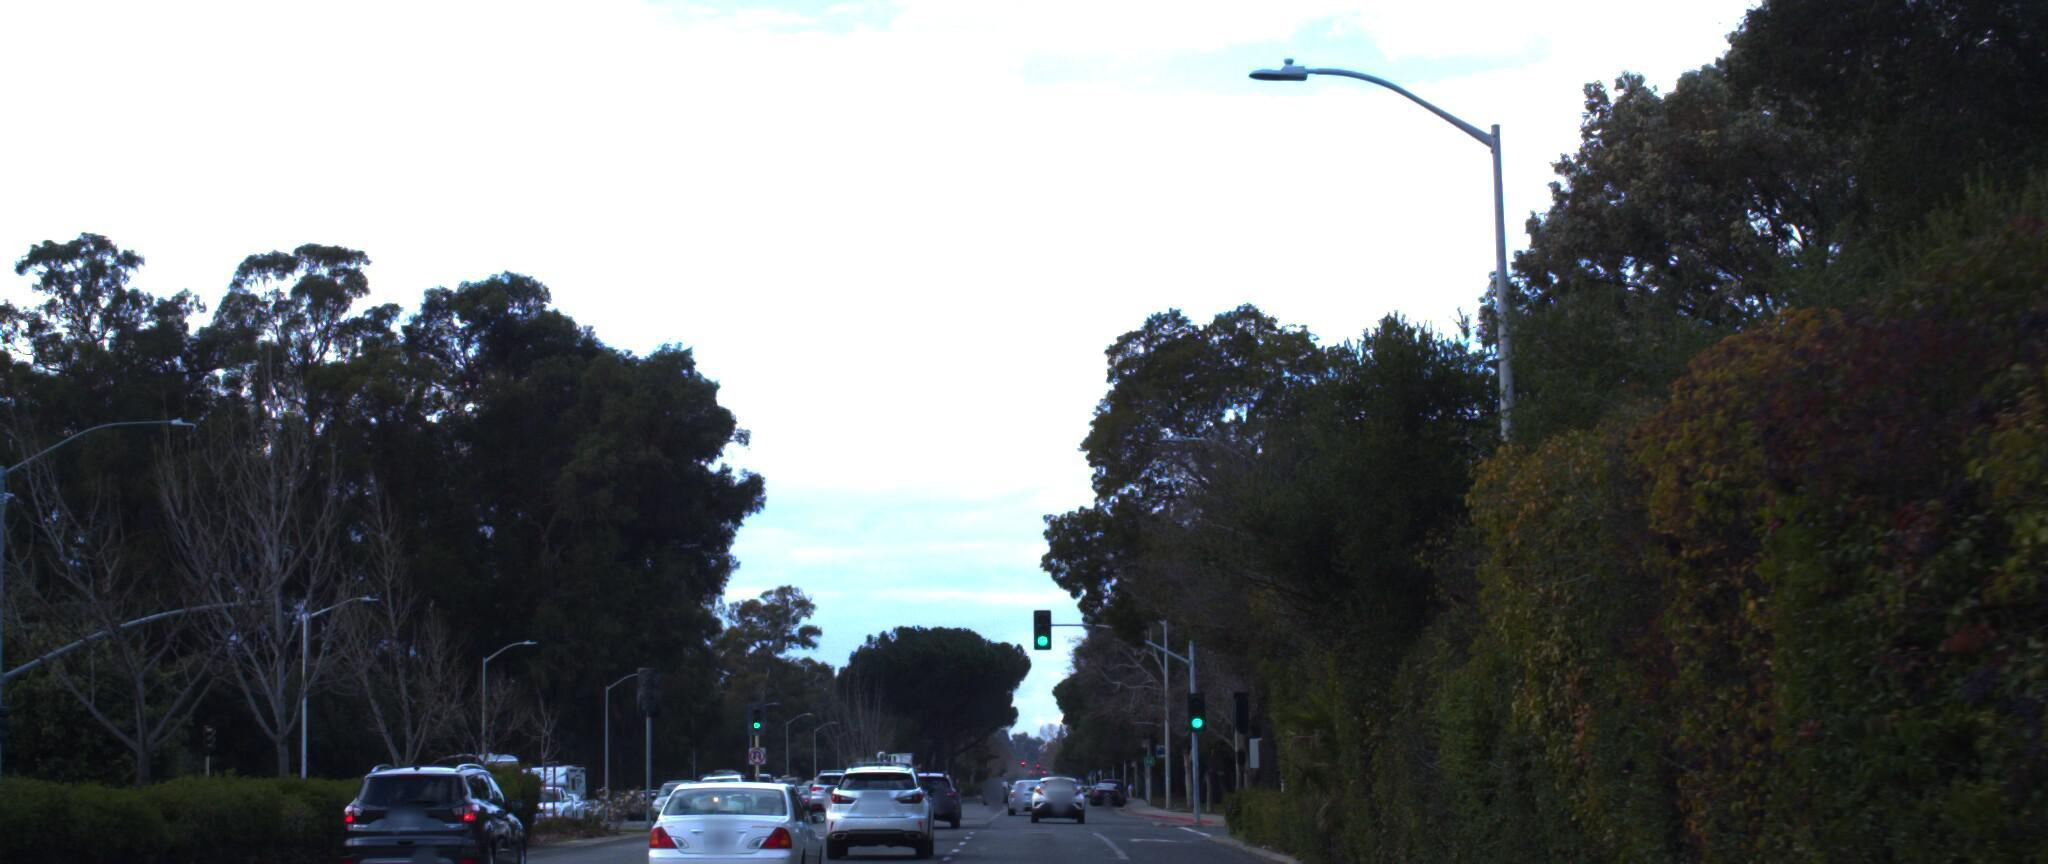car: (344, 747, 550, 864), (645, 743, 835, 864), (820, 757, 934, 855)
